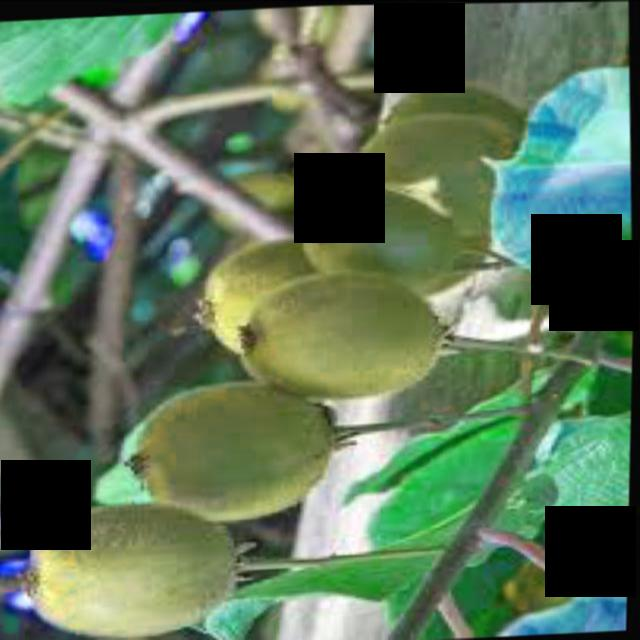kiwi: (22, 498, 248, 640), (131, 379, 345, 523), (238, 264, 454, 403), (353, 107, 551, 248), (199, 229, 380, 357), (379, 78, 559, 186), (300, 180, 459, 299), (508, 547, 617, 626)
